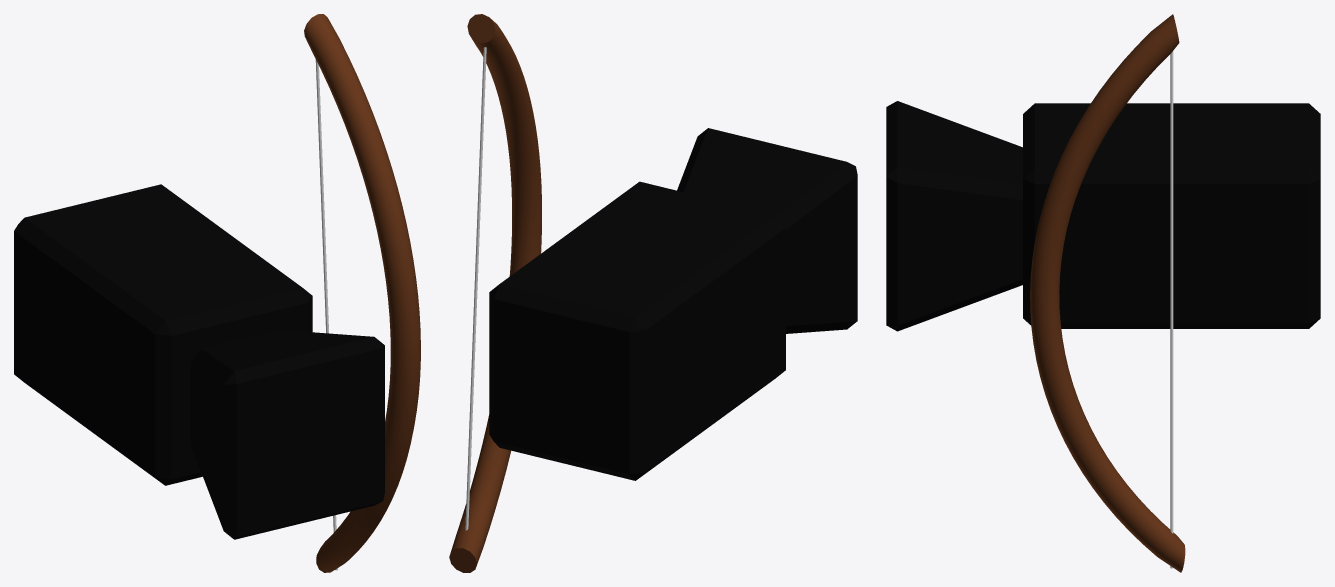
File: Archer.glb
The picture shows the model from 3 angles, left to right: view 1: azimuth 30°, elevation 25°; view 2: azimuth 150°, elevation 25°; view 3: azimuth 270°, elevation 25°; orthographic projection. The views are drawn at different scales.
Parts seen in each view (by area): view 1: Cube, NurbsCurve, NurbsPath; view 2: Cube, NurbsCurve, NurbsPath; view 3: Cube, NurbsCurve, NurbsPath.
Part boxes in pixels (<box>): Cube: <box>14,184,384,539</box>; NurbsCurve: <box>304,14,420,572</box>; NurbsPath: <box>315,59,337,570</box>; Cube: <box>489,128,857,480</box>; NurbsCurve: <box>449,14,541,572</box>; NurbsPath: <box>465,47,486,530</box>; Cube: <box>886,101,1320,331</box>; NurbsCurve: <box>1030,14,1185,572</box>; NurbsPath: <box>1170,51,1173,568</box>.
Size of the model in its own units: 2.05 by 4.07 by 2.92.
